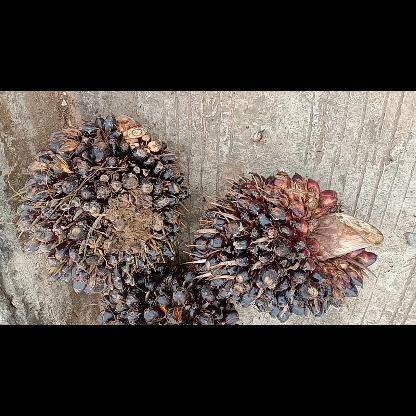TBS mentah: (14, 115, 192, 296), (188, 167, 384, 323), (96, 258, 242, 324)
